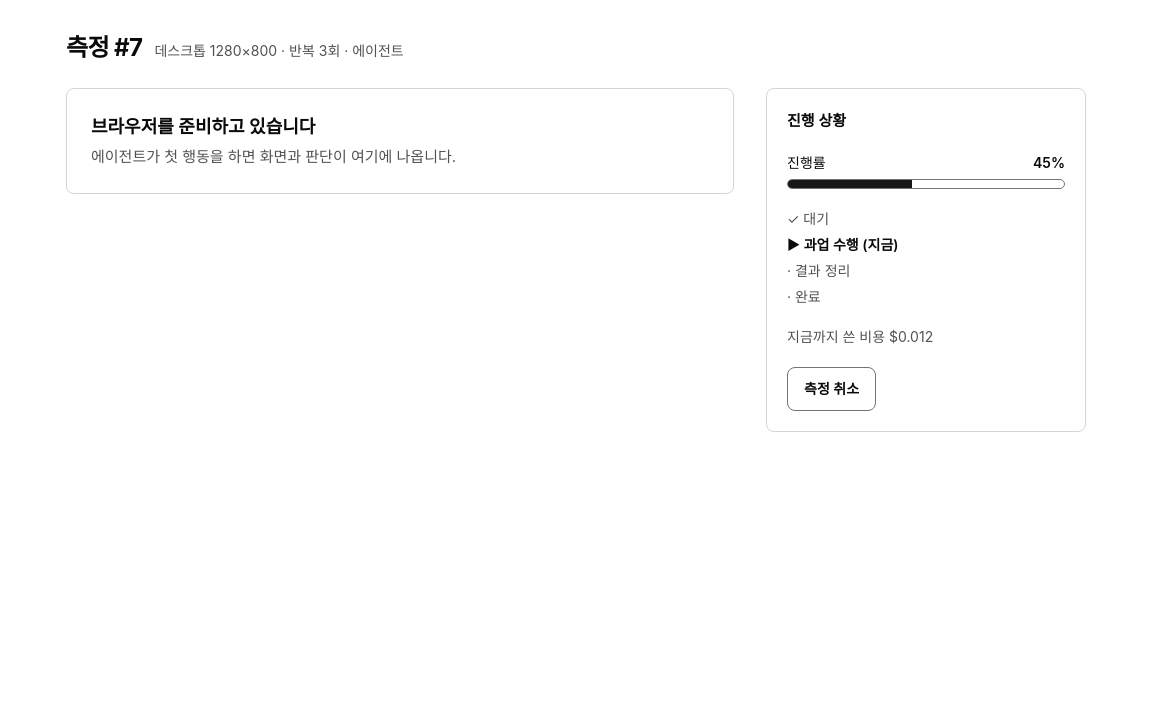
Test: 취소 확인에서 계속 측정을 누르면 요청하지 않는다
This screenshot has width=1152, height=720.
Click the button "측정 취소": (832, 389) [787,367,876,411]
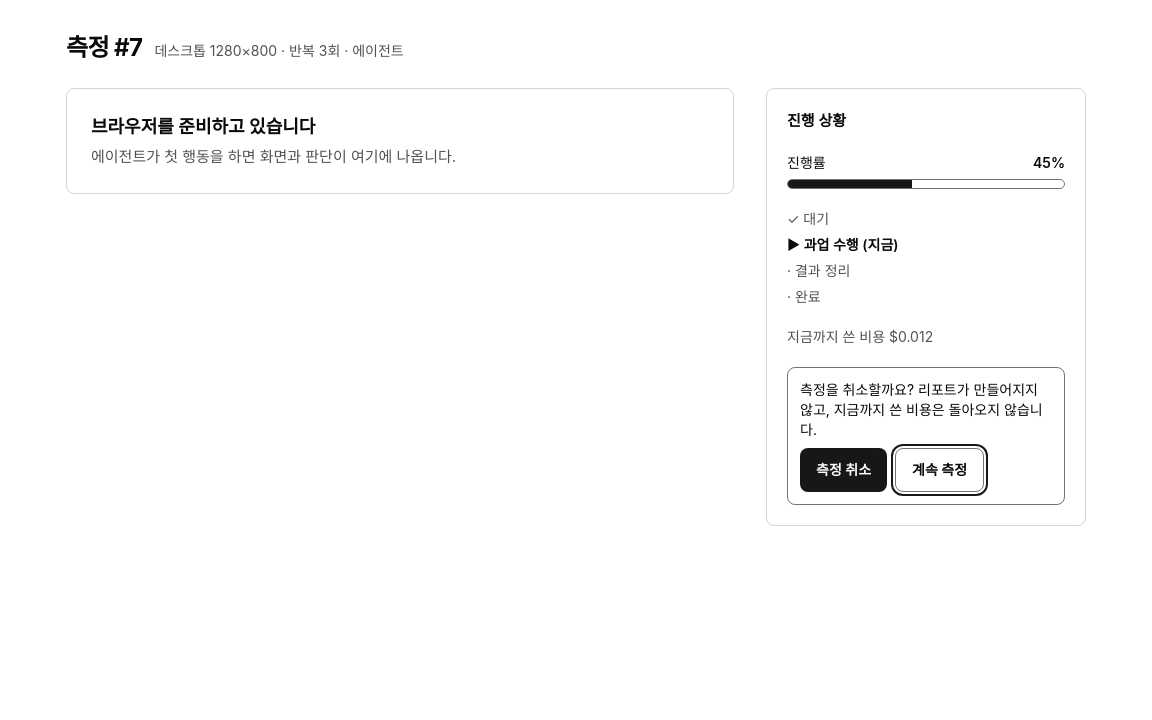
Click the button "계속 측정": (940, 470) [895,448,984,492]
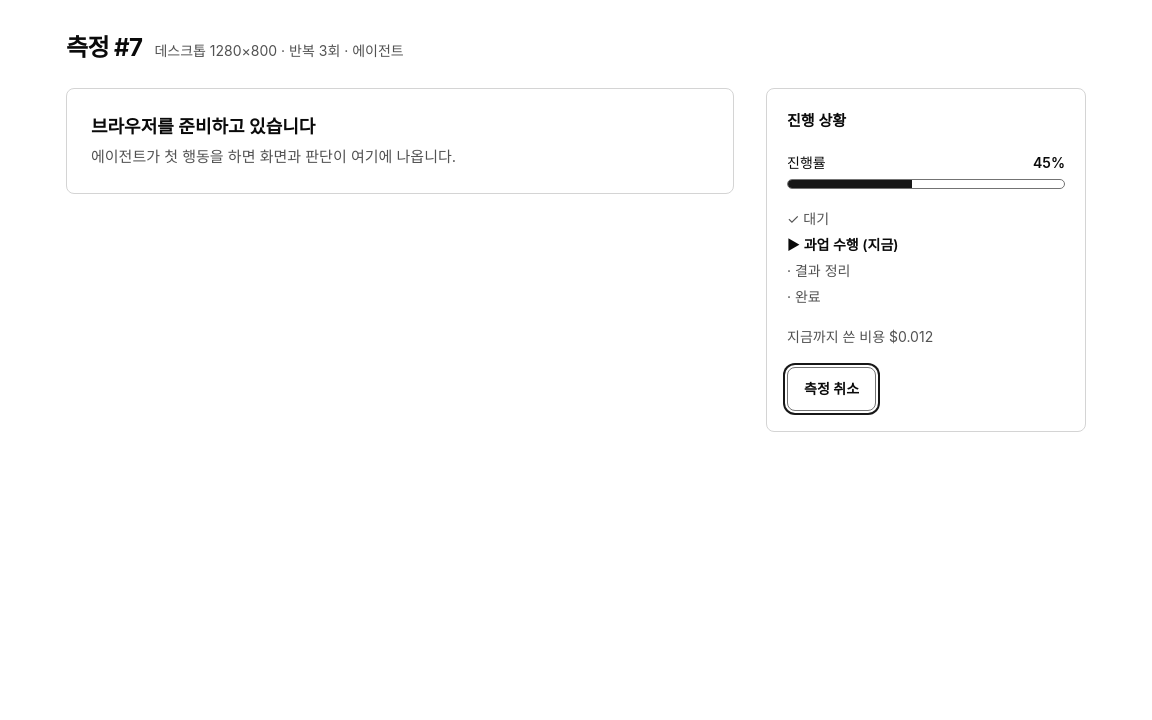
Check: the text "측정을 취소할까요?" is gone
